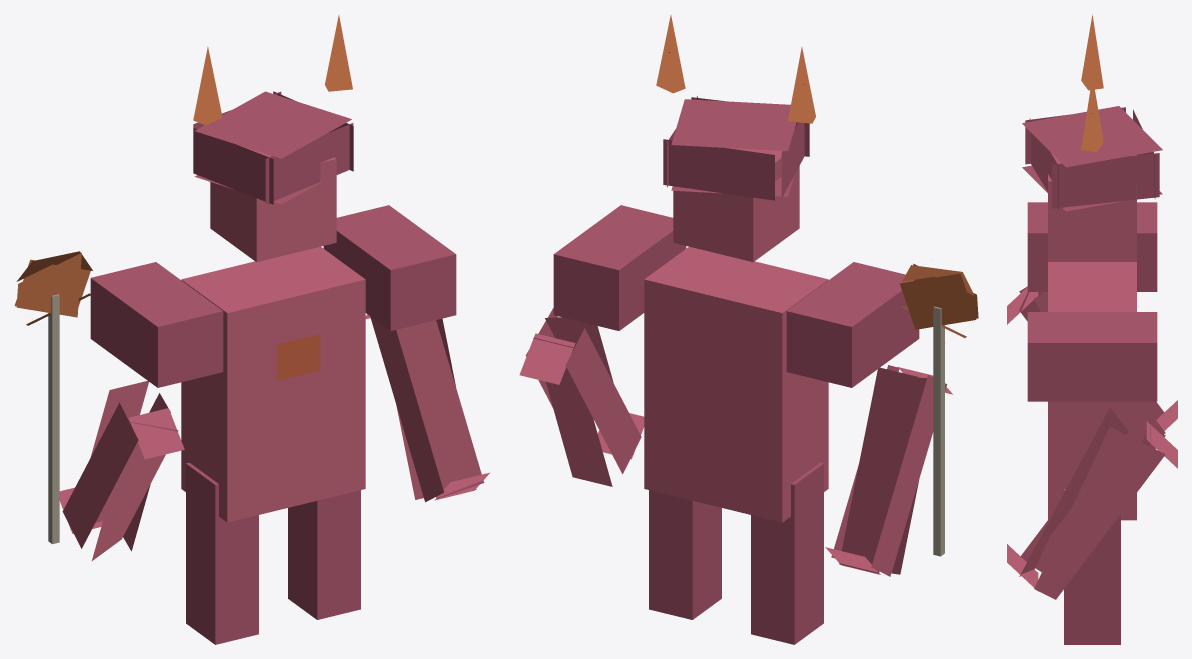
File: takeda-02.glb
The picture shows the model from 3 angles, left to right: view 1: azimuth 30°, elevation 25°; view 2: azimuth 150°, elevation 25°; view 3: azimuth 270°, elevation 25°; orthographic projection. The views are drawn at different scales.
Visible parts, largest first — view 1: samurai; view 2: samurai; view 3: samurai.
Part boxes in pixels (bbox=[...]): samurai: bbox=[14, 15, 489, 644]; samurai: bbox=[519, 15, 978, 644]; samurai: bbox=[1007, 14, 1177, 644].
Size of the model in its own units: 1.16 by 1.54 by 0.421.
